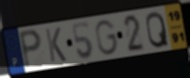2: (123, 14, 146, 54)
5: (71, 19, 96, 62)
G: (94, 19, 120, 57)
K: (44, 26, 68, 64)
P: (17, 28, 43, 71)
Q: (145, 10, 171, 50)
